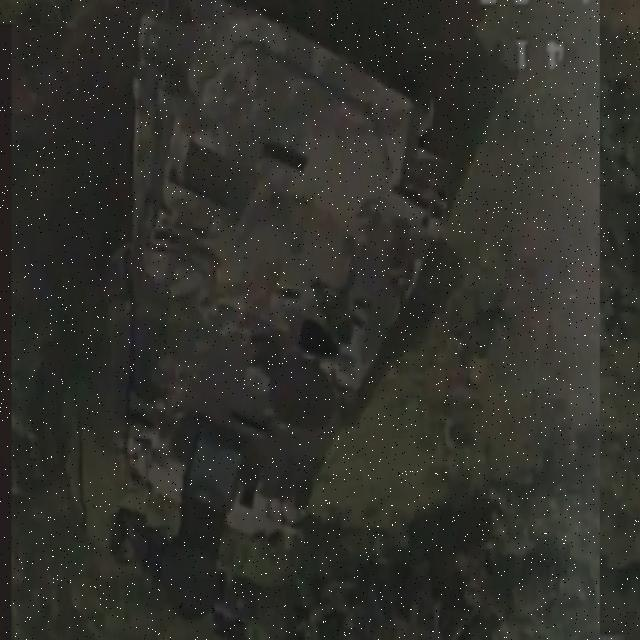MLRS: (82, 9, 468, 638)
